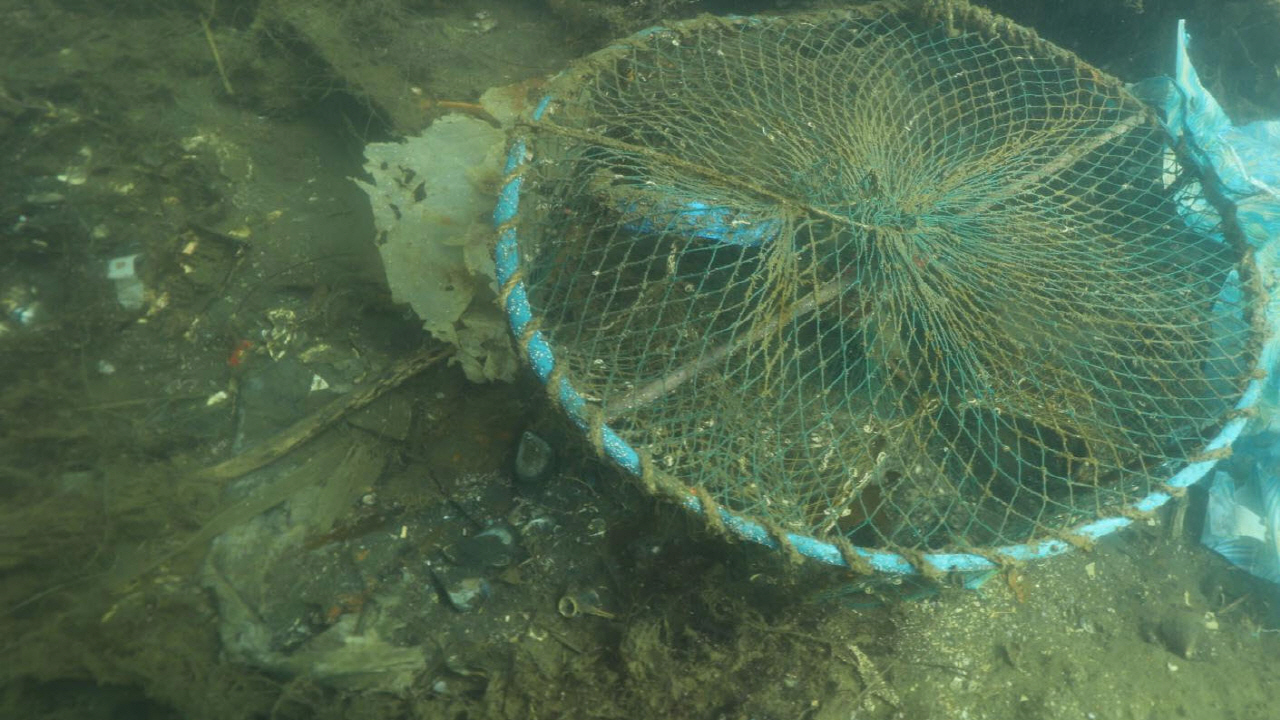circular fish trap: (494, 0, 1272, 575)
